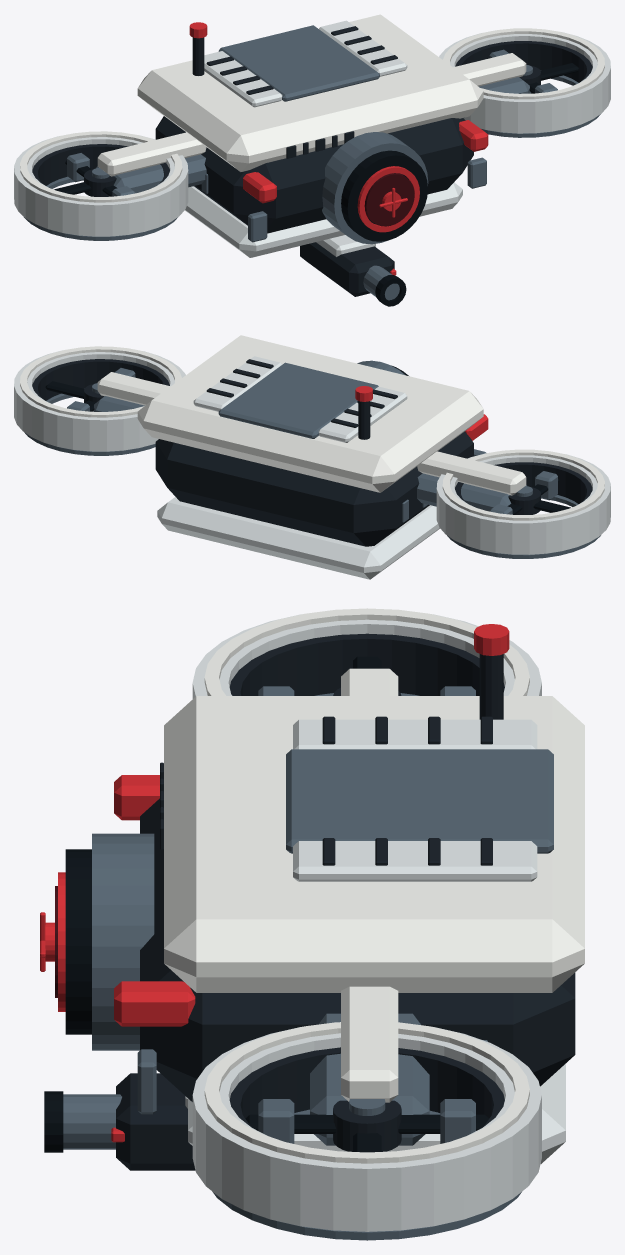
The model's file is drone_assembled.obj.
3 views of the same model, one above another, from view 1: azimuth 30°, elevation 25°; view 2: azimuth 150°, elevation 25°; view 3: azimuth 270°, elevation 25° (orthographic). The views are drawn at different scales.
Visible parts, largest first — view 1: part_001, part_000, part_016, part_003, part_033, part_002, part_048, part_049, part_056, part_015, part_034, part_019 (+21 smaller); view 2: part_001, part_000, part_002, part_016, part_003, part_033, part_015, part_034, part_019, part_036, part_017, part_009 (+10 smaller); view 3: part_001, part_033, part_003, part_000, part_048, part_017, part_036, part_009, part_034, part_032, part_004, part_016 (+19 smaller).
Part boxes in pixels (bbox=[...]): part_001: bbox=[137, 14, 483, 171]; part_000: bbox=[155, 116, 473, 233]; part_016: bbox=[14, 135, 188, 236]; part_003: bbox=[218, 25, 379, 101]; part_033: bbox=[439, 32, 610, 133]; part_002: bbox=[185, 182, 462, 257]; part_048: bbox=[322, 132, 428, 244]; part_049: bbox=[341, 150, 427, 241]; part_056: bbox=[300, 242, 394, 296]; part_015: bbox=[97, 132, 206, 176]; part_034: bbox=[455, 41, 592, 82]; part_019: bbox=[20, 131, 182, 202]; part_001: bbox=[137, 335, 483, 492]; part_000: bbox=[155, 431, 473, 546]; part_002: bbox=[157, 497, 439, 579]; part_016: bbox=[436, 453, 610, 554]; part_003: bbox=[218, 362, 378, 438]; part_033: bbox=[14, 350, 185, 451]; part_015: bbox=[417, 451, 526, 495]; part_034: bbox=[32, 359, 169, 400]; part_019: bbox=[442, 449, 604, 520]; part_036: bbox=[20, 346, 181, 417]; part_017: bbox=[455, 462, 592, 503]; part_009: bbox=[193, 356, 282, 411]; part_001: bbox=[164, 696, 584, 992]; part_033: bbox=[192, 1026, 541, 1231]; part_003: bbox=[286, 749, 553, 853]; part_000: bbox=[140, 798, 575, 1101]; part_048: bbox=[92, 833, 154, 1050]; part_017: bbox=[229, 633, 504, 695]; part_036: bbox=[204, 1022, 529, 1163]; part_009: bbox=[293, 841, 537, 881]; part_034: bbox=[229, 1047, 504, 1128]; part_032: bbox=[341, 986, 398, 1102]; part_004: bbox=[293, 719, 537, 749]; part_016: bbox=[192, 614, 541, 698].
Bounding box in the file's own units: 2.77 × 1.02 × 1.14.
